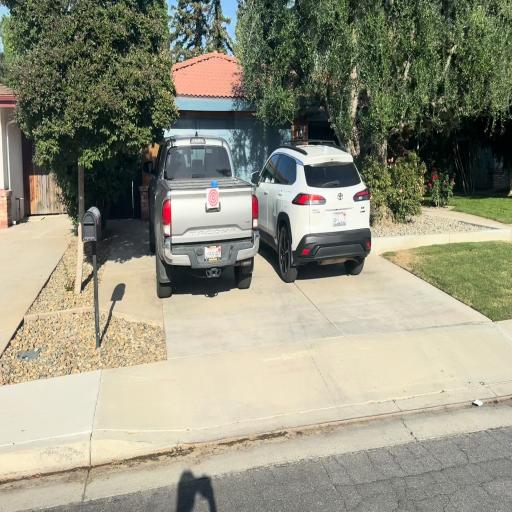bullseye: (208, 188, 219, 208)
